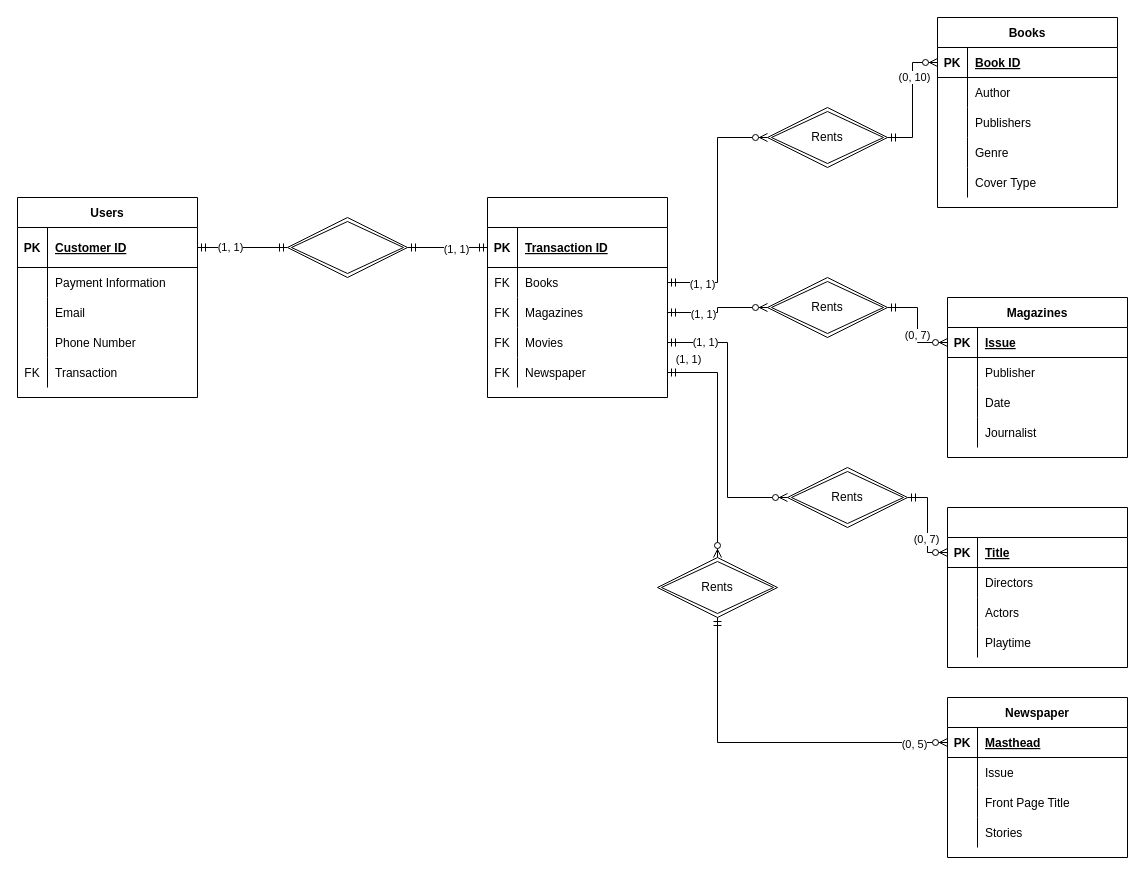
Image size: 1145x875. Some labels were removed from this diagram. Here are the shapes that lost their labels. From the top down, the box of each, then its label:
(286, 216, 408, 278): Complete
(486, 196, 668, 398): Transactions
(946, 506, 1128, 668): Movie
